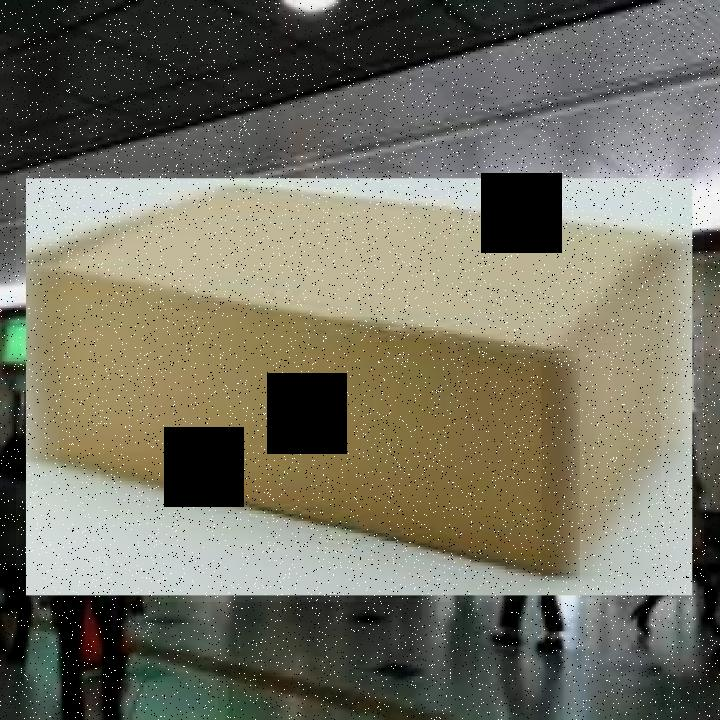box: (16, 173, 704, 602)
